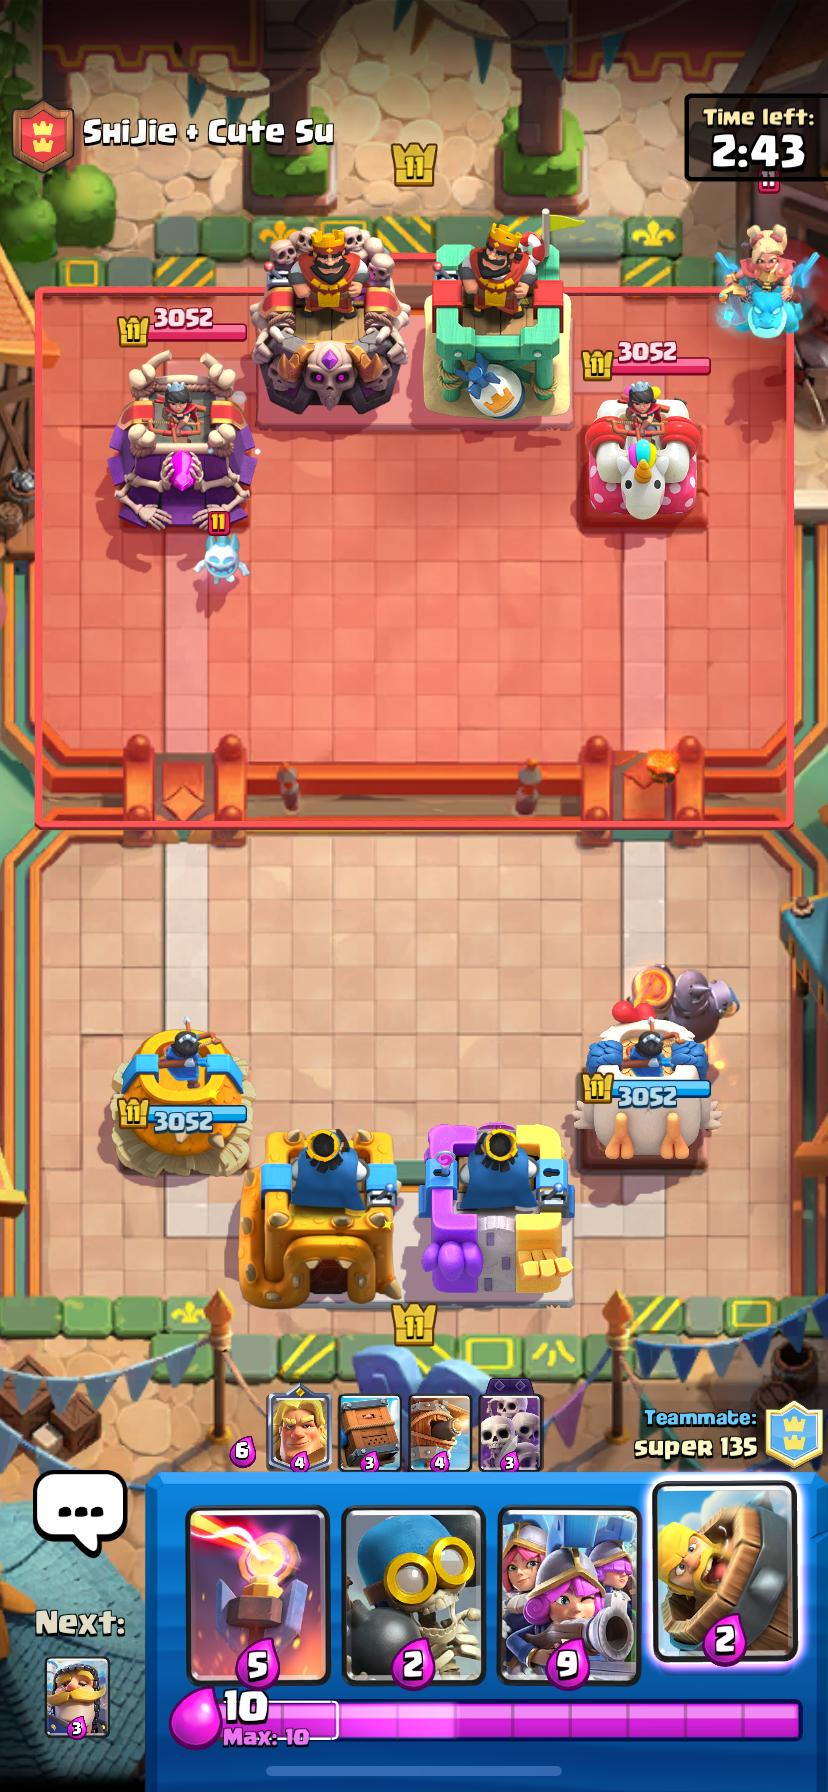EIceSpirit: (194, 506, 248, 585)
EKingTower: (423, 213, 570, 418), (250, 226, 411, 414)
ESpiritEmp: (716, 224, 818, 338)
EnemyPrincessTower: (109, 353, 257, 535), (583, 379, 701, 525)
OFurnace: (632, 967, 733, 1030)
OwnKingTower: (240, 1129, 403, 1307), (419, 1123, 573, 1301)
OwnPrincessTower: (111, 1022, 253, 1175), (576, 1017, 710, 1165)
